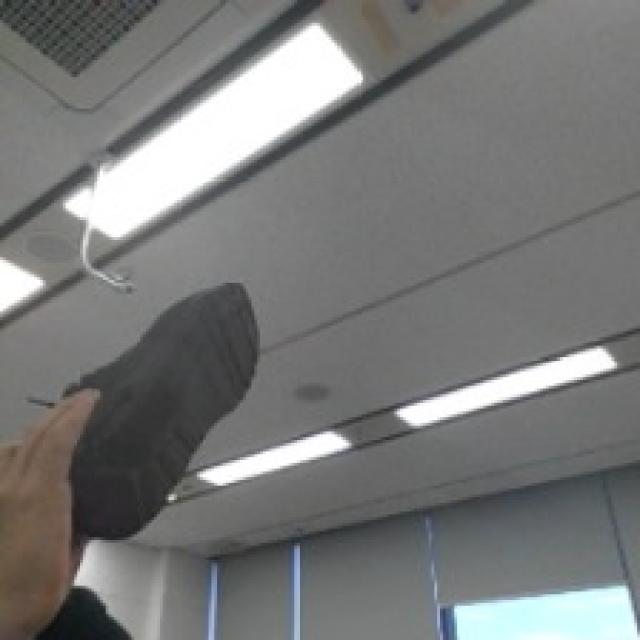shoe: (70, 278, 264, 543)
